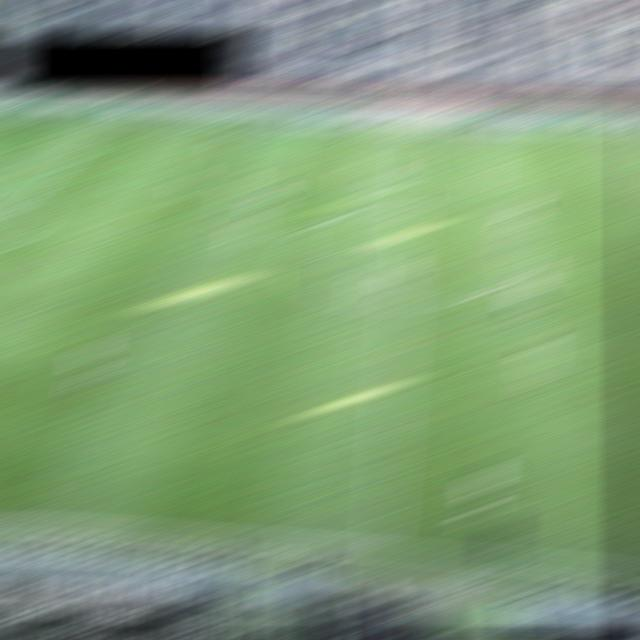bigarea_top_inner: (58, 155, 87, 161)
halfcircle_bottom: (386, 300, 417, 306)
halfcircle_top: (396, 207, 425, 212)
midline_bottom_intersection: (366, 545, 395, 551)
midline_top_intersection: (400, 129, 430, 134)
top_arc_area_intersection: (8, 198, 38, 203)
